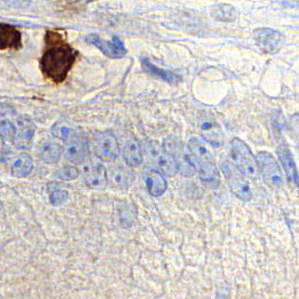Lymphocyte: (39, 30, 79, 84)
